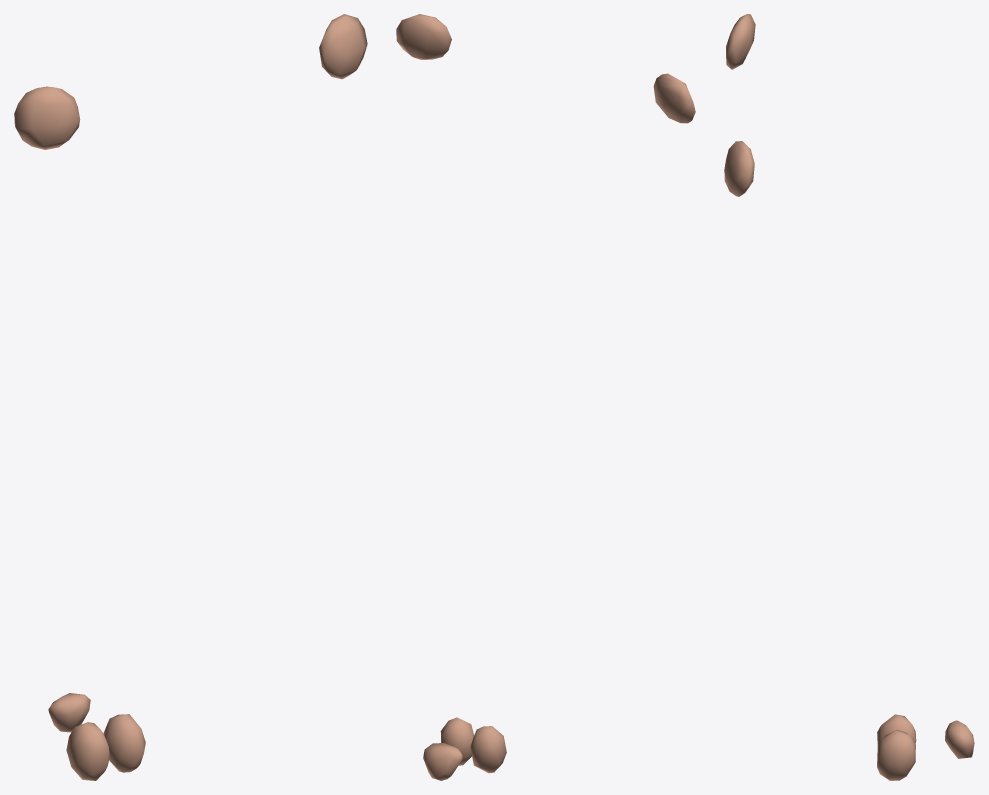
File: pediatric_adolescent_male.reproductive.LOD3.glb
3 renders of one model, left to right at view 1: azimuth 30°, elevation 25°; view 2: azimuth 150°, elevation 25°; view 3: azimuth 270°, elevation 25°, orthographic. The views are drawn at different scales.
Visible parts, largest first — view 1: PEDIATRIC.ADOLESCENT.MALE.REPRODUCTIVE.BREAST_ADIPOSE_TISSUE (×2), PEDIATRIC.ADOLESCENT.MALE.REPRODUCTIVE.TESTIS.R, PEDIATRIC.ADOLESCENT.MALE.REPRODUCTIVE.TESTIS.L, PEDIATRIC.ADOLESCENT.MALE.REPRODUCTIVE.PROSTATE; view 2: PEDIATRIC.ADOLESCENT.MALE.REPRODUCTIVE.BREAST_ADIPOSE_TISSUE (×2), PEDIATRIC.ADOLESCENT.MALE.REPRODUCTIVE.TESTIS.R, PEDIATRIC.ADOLESCENT.MALE.REPRODUCTIVE.PROSTATE, PEDIATRIC.ADOLESCENT.MALE.REPRODUCTIVE.TESTIS.L; view 3: PEDIATRIC.ADOLESCENT.MALE.REPRODUCTIVE.BREAST_ADIPOSE_TISSUE (×2), PEDIATRIC.ADOLESCENT.MALE.REPRODUCTIVE.TESTIS.L, PEDIATRIC.ADOLESCENT.MALE.REPRODUCTIVE.PROSTATE, PEDIATRIC.ADOLESCENT.MALE.REPRODUCTIVE.TESTIS.R.
Part boxes in pixels (x1=…): PEDIATRIC.ADOLESCENT.MALE.REPRODUCTIVE.BREAST_ADIPOSE_TISSUE (×2): x1=14, y1=14, x2=367, y2=149; PEDIATRIC.ADOLESCENT.MALE.REPRODUCTIVE.TESTIS.R: x1=66, y1=722, x2=109, y2=780; PEDIATRIC.ADOLESCENT.MALE.REPRODUCTIVE.TESTIS.L: x1=103, y1=714, x2=145, y2=772; PEDIATRIC.ADOLESCENT.MALE.REPRODUCTIVE.PROSTATE: x1=48, y1=693, x2=90, y2=732; PEDIATRIC.ADOLESCENT.MALE.REPRODUCTIVE.BREAST_ADIPOSE_TISSUE (×2): x1=396, y1=14, x2=695, y2=123; PEDIATRIC.ADOLESCENT.MALE.REPRODUCTIVE.TESTIS.R: x1=470, y1=726, x2=506, y2=773; PEDIATRIC.ADOLESCENT.MALE.REPRODUCTIVE.PROSTATE: x1=423, y1=743, x2=462, y2=780; PEDIATRIC.ADOLESCENT.MALE.REPRODUCTIVE.TESTIS.L: x1=440, y1=717, x2=473, y2=765; PEDIATRIC.ADOLESCENT.MALE.REPRODUCTIVE.BREAST_ADIPOSE_TISSUE (×2): x1=724, y1=14, x2=755, y2=196; PEDIATRIC.ADOLESCENT.MALE.REPRODUCTIVE.TESTIS.L: x1=877, y1=729, x2=915, y2=780; PEDIATRIC.ADOLESCENT.MALE.REPRODUCTIVE.PROSTATE: x1=945, y1=720, x2=974, y2=758; PEDIATRIC.ADOLESCENT.MALE.REPRODUCTIVE.TESTIS.R: x1=877, y1=714, x2=916, y2=745.
Size of the model in its own units: 0.2102 by 0.4511 by 0.1477.
